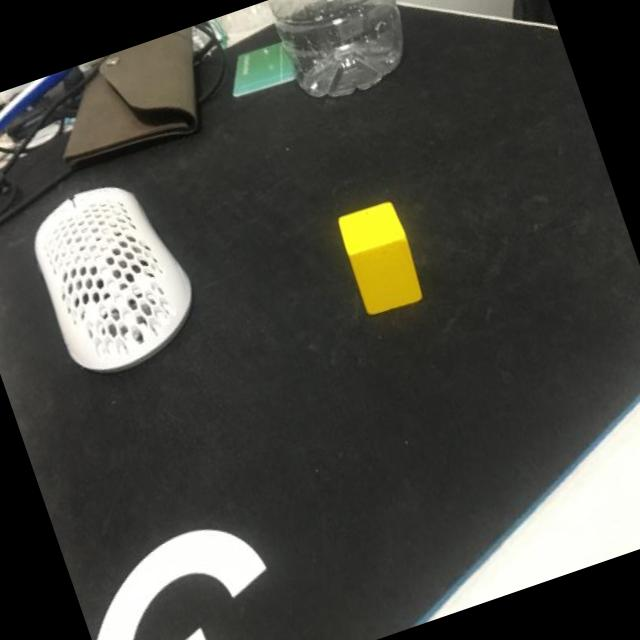yellow: (334, 198, 428, 318)
